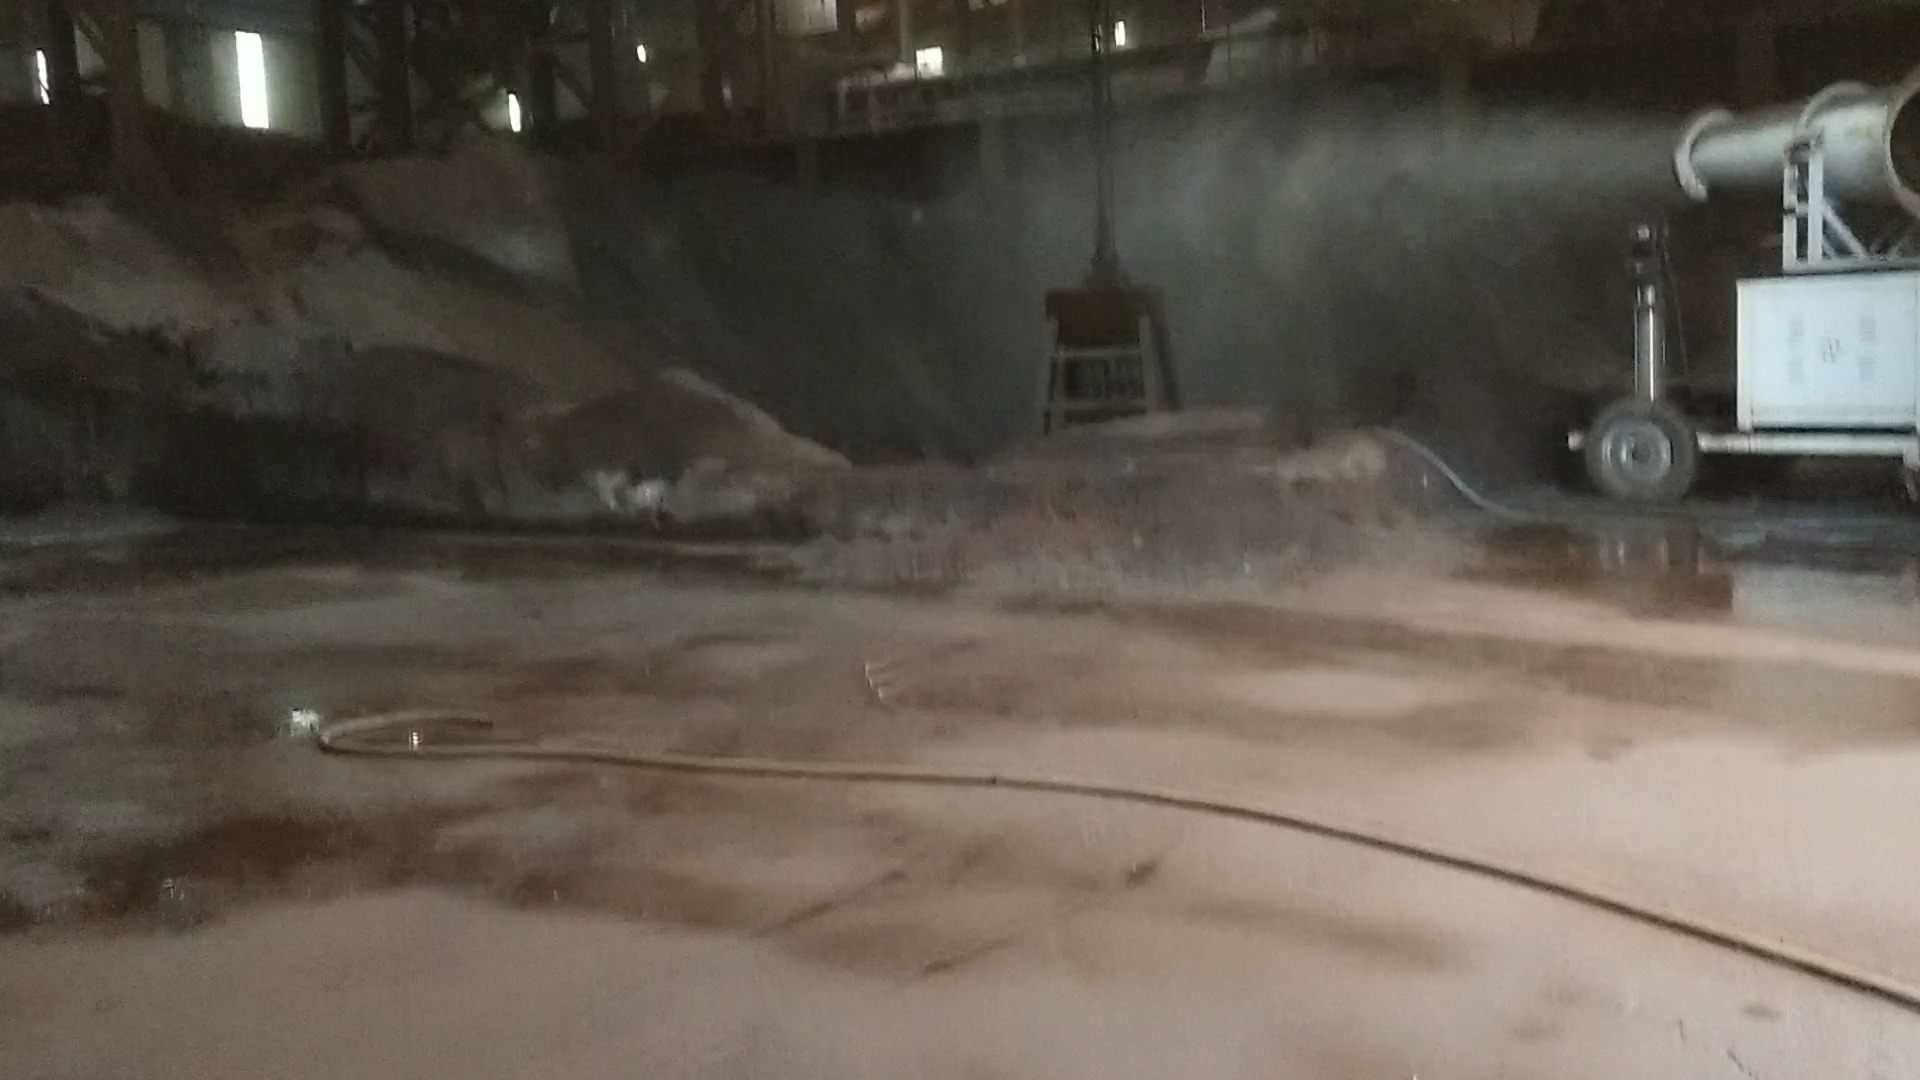dust: (1034, 95, 1668, 224)
grab: (1017, 216, 1188, 451)
